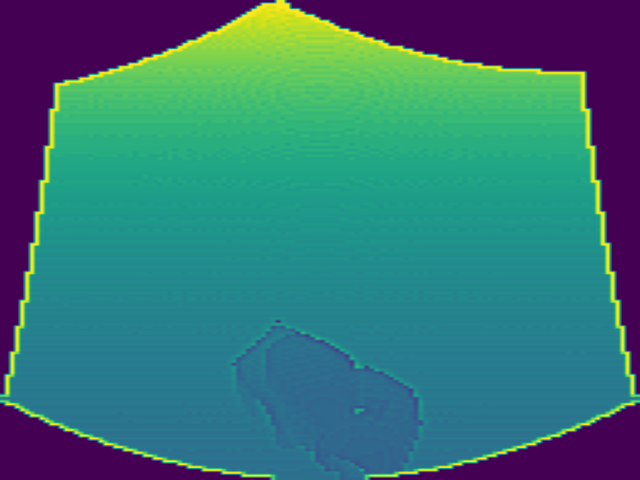car_0027: (234, 320, 426, 474)
